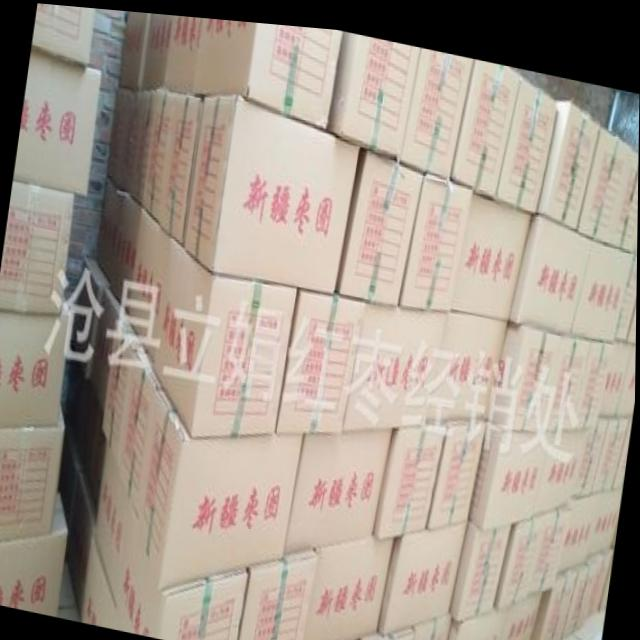box: (183, 88, 360, 288), (137, 388, 303, 586), (154, 235, 297, 434), (192, 14, 343, 123), (119, 521, 250, 640), (344, 294, 449, 425), (336, 140, 423, 298), (284, 424, 391, 551), (14, 48, 102, 195), (276, 285, 367, 427), (328, 27, 420, 152), (400, 163, 473, 304), (452, 185, 532, 313), (510, 204, 593, 325), (379, 516, 469, 627), (0, 180, 74, 315), (305, 530, 394, 640), (451, 52, 521, 191), (0, 296, 71, 428), (401, 40, 472, 170), (0, 403, 66, 540), (427, 304, 509, 413), (69, 469, 125, 628), (0, 489, 69, 616), (374, 415, 447, 533), (471, 412, 549, 521), (495, 67, 556, 206), (537, 88, 600, 218), (118, 343, 163, 516), (239, 545, 319, 640), (490, 315, 562, 420), (95, 438, 135, 613), (578, 115, 635, 234), (128, 205, 171, 360), (427, 414, 488, 521), (572, 228, 635, 331), (159, 91, 202, 241), (451, 512, 513, 613), (101, 312, 139, 463), (97, 177, 140, 310), (496, 503, 547, 602), (138, 87, 175, 221), (534, 421, 591, 507), (141, 10, 200, 90), (72, 258, 110, 378), (543, 328, 593, 419), (91, 286, 126, 412), (532, 556, 579, 640), (531, 493, 574, 584), (31, 3, 95, 63), (558, 482, 603, 564), (120, 87, 152, 196), (566, 540, 606, 625), (576, 331, 615, 418), (116, 9, 149, 87), (447, 599, 509, 640), (501, 582, 544, 640), (108, 86, 133, 184), (615, 141, 639, 242), (414, 607, 451, 640), (359, 620, 415, 640)
